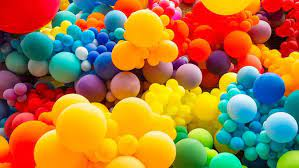Balloon: (55, 103, 106, 143), (1, 1, 60, 35), (36, 130, 85, 168), (138, 131, 176, 168), (125, 9, 162, 45), (113, 100, 150, 136), (263, 113, 299, 146), (173, 138, 207, 168), (253, 72, 285, 103), (50, 51, 80, 81), (22, 32, 53, 61), (227, 94, 257, 122), (75, 74, 105, 102), (113, 40, 139, 70), (111, 72, 141, 98), (225, 31, 252, 56), (195, 93, 218, 119), (176, 65, 203, 87), (187, 39, 210, 63), (210, 152, 241, 168), (250, 23, 272, 45), (208, 51, 229, 73), (117, 135, 137, 156), (6, 53, 26, 74), (158, 41, 178, 61), (105, 10, 126, 28), (96, 139, 114, 159), (28, 60, 47, 77), (242, 130, 257, 146), (217, 131, 230, 145), (231, 136, 243, 151), (258, 144, 270, 158), (81, 30, 95, 42), (224, 120, 237, 132), (250, 120, 263, 132), (246, 147, 258, 160), (75, 47, 88, 59), (12, 83, 25, 95), (167, 78, 179, 90), (239, 21, 251, 32), (114, 27, 125, 39), (97, 32, 109, 43), (61, 34, 73, 45), (287, 39, 298, 50), (3, 89, 14, 100), (160, 14, 170, 25), (81, 61, 92, 71), (165, 7, 175, 17)
